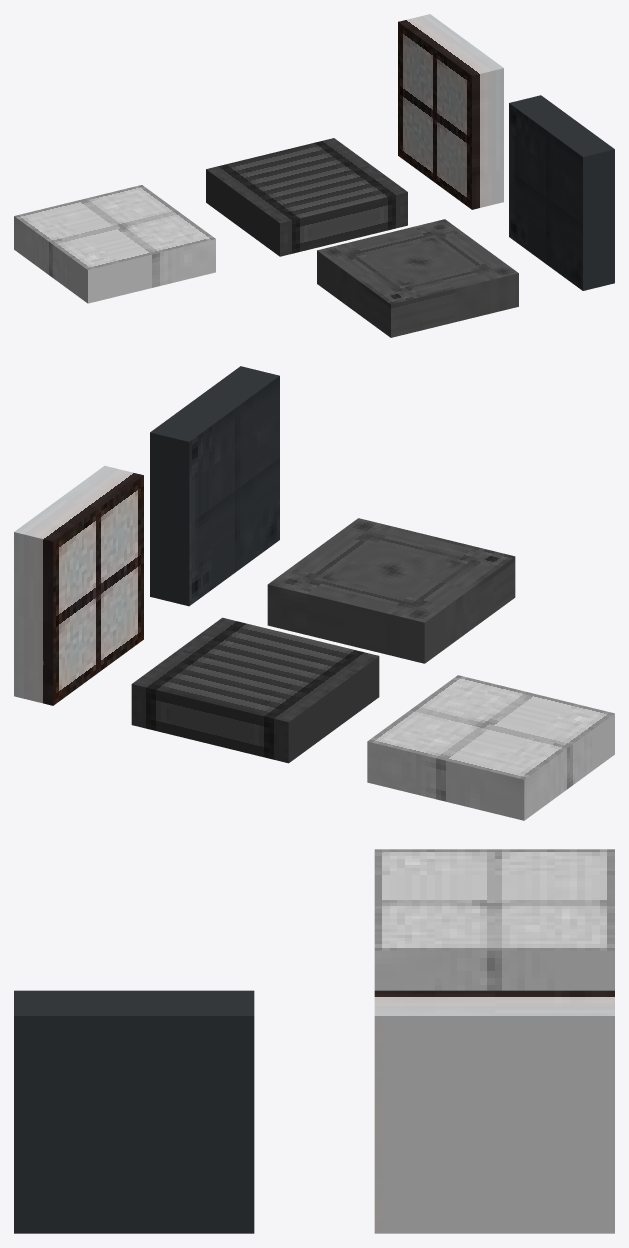
File: gridmap.glb
3 renders of one model, top to bottom at view 1: azimuth 30°, elevation 25°; view 2: azimuth 150°, elevation 25°; view 3: azimuth 270°, elevation 25°, orthographic. The views are drawn at different scales.
Parts seen in each view (by area): view 1: Plane.010, Plane.011, Plane.003, Plane, Plane.001; view 2: Plane.010, Plane.011, Plane.001, Plane, Plane.003; view 3: Plane.010, Plane.011, Plane.003.
Boxes of the visible parts, x1,y1,x2,y2 form: Plane.010: (509,95,614,290); Plane.011: (398,14,503,209); Plane.003: (14,185,215,303); Plane: (206,138,407,256); Plane.001: (317,219,518,337); Plane.010: (150,366,279,606); Plane.011: (14,465,143,705); Plane.001: (267,518,515,663); Plane: (131,617,379,763); Plane.003: (367,675,614,820); Plane.010: (14,990,254,1233); Plane.011: (374,990,614,1233); Plane.003: (374,849,614,990).
Size of the model in its own units: 6.5 by 2 by 5.
Materials: 5 (5 with a texture image).
